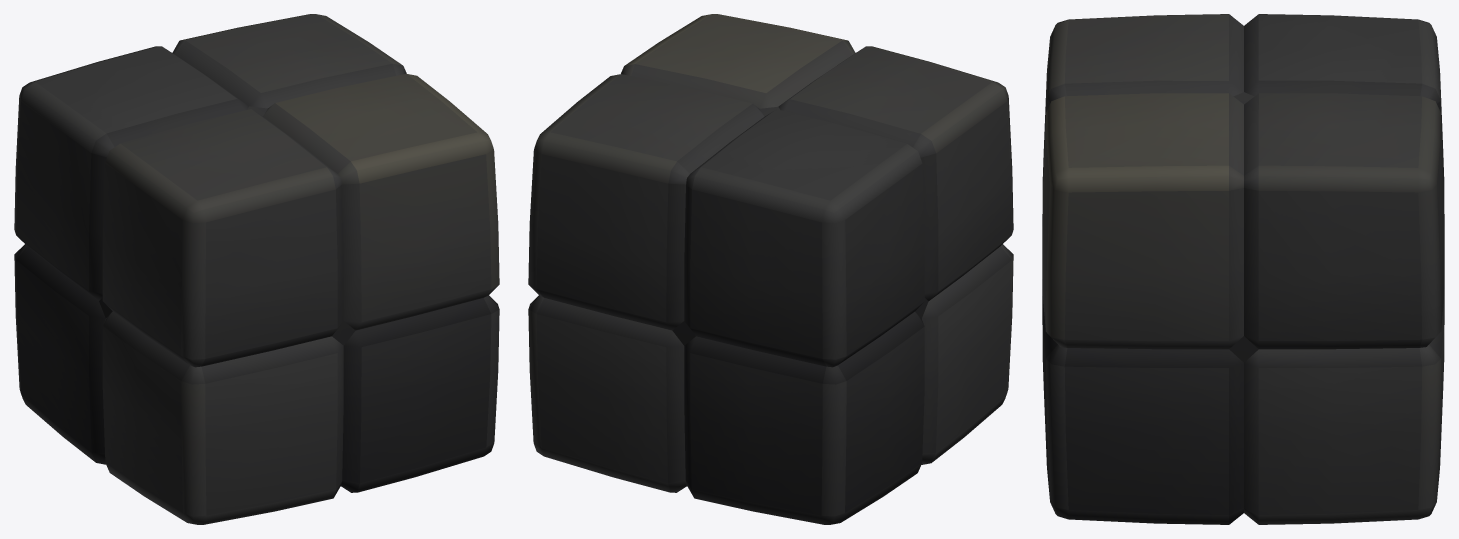
Rendered from block_brick_black_4.fbx.
The picture shows the model from 3 angles, left to right: view 1: azimuth 30°, elevation 25°; view 2: azimuth 150°, elevation 25°; view 3: azimuth 270°, elevation 25°; orthographic projection. The views are drawn at different scales.
Visible parts, largest first — view 1: block_brick_black_4_LOD0; view 2: block_brick_black_4_LOD0; view 3: block_brick_black_4_LOD0.
Part boxes in pixels (x1,y1,x2,y2): block_brick_black_4_LOD0: (14, 14, 499, 524); block_brick_black_4_LOD0: (528, 14, 1013, 524); block_brick_black_4_LOD0: (1042, 14, 1444, 524).
Size of what is drawn, in the model's own units: 108 by 108 by 108.
